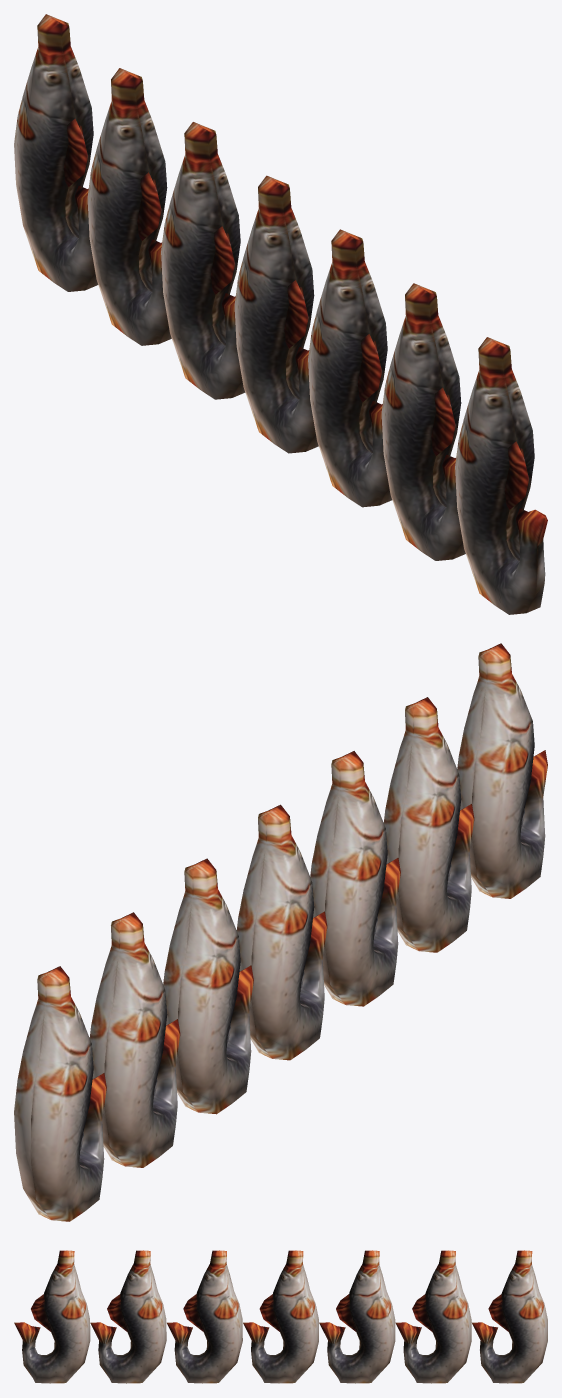
File: Fishes.fbx
The picture shows the model from 3 angles, top to bottom: view 1: azimuth 30°, elevation 25°; view 2: azimuth 150°, elevation 25°; view 3: azimuth 270°, elevation 25°; orthographic projection. The views are drawn at different scales.
Parts seen in each view (by area): view 1: Cylinder.006; view 2: Cylinder.006; view 3: Cylinder.006.
Part boxes in pixels (x1,y1,x2,y2): Cylinder.006: (14,14,547,614); Cylinder.006: (14,643,547,1221); Cylinder.006: (14,1250,547,1383).
Size of the model in its own units: 9.38 by 38.38 by 144.
1 material, 1 textured.
